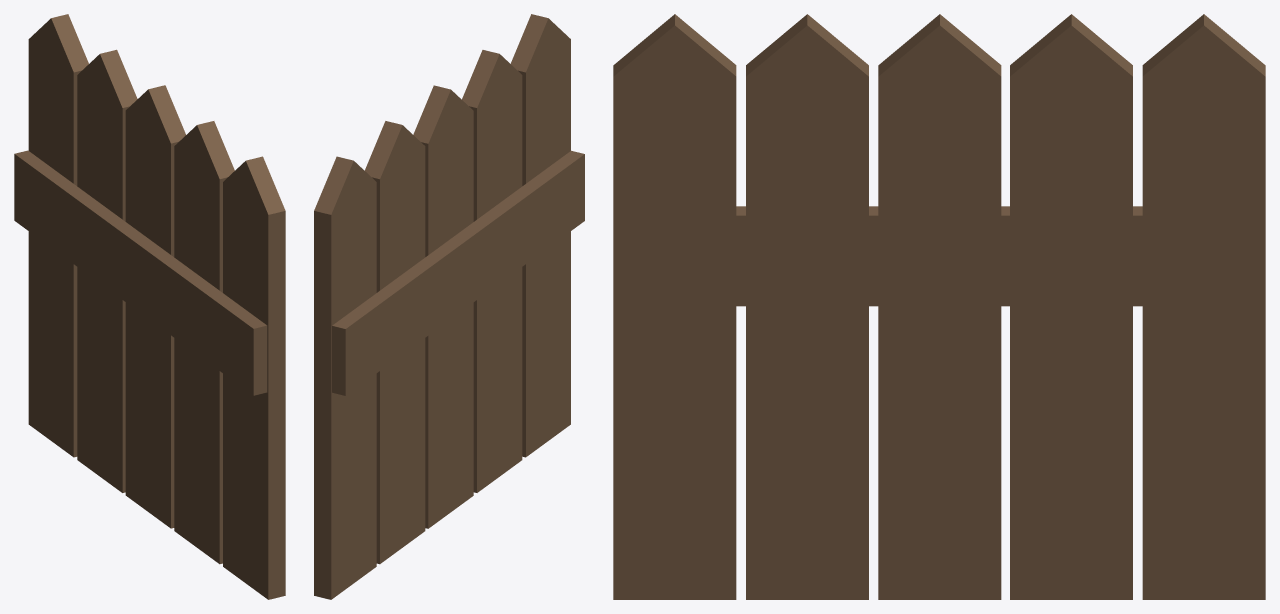
Rendered from picket_fence_short.gltf.
3 renders of one model, left to right at view 1: azimuth 30°, elevation 25°; view 2: azimuth 150°, elevation 25°; view 3: azimuth 270°, elevation 25°, orthographic. The views are drawn at different scales.
Visible parts, largest first — view 1: Plank4, CrossBoard, Plank1, Plank5, Plank3, Plank2; view 2: Plank5, CrossBoard, Plank2, Plank3, Plank4, Plank1; view 3: Plank4, Plank5, Plank1, Plank2, Plank3, CrossBoard.
Boxes of the visible parts, box(x1,y1,x2,y2) form: Plank4: box(223, 156, 285, 599); CrossBoard: box(14, 150, 267, 395); Plank1: box(125, 85, 185, 528); Plank5: box(28, 14, 88, 457); Plank3: box(174, 121, 234, 564); Plank2: box(77, 49, 137, 492); Plank5: box(314, 156, 376, 599); CrossBoard: box(332, 150, 584, 395); Plank2: box(364, 121, 425, 564); Plank3: box(462, 50, 522, 492); Plank4: box(510, 14, 570, 457); Plank1: box(413, 85, 473, 528); Plank4: box(613, 14, 736, 599); Plank5: box(1142, 14, 1265, 599); Plank1: box(878, 14, 1001, 599); Plank2: box(1010, 14, 1132, 599); Plank3: box(746, 14, 868, 599); CrossBoard: box(736, 206, 1142, 306).
Bounding box in the file's own units: 0.1709 × 2.2 × 2.26.
